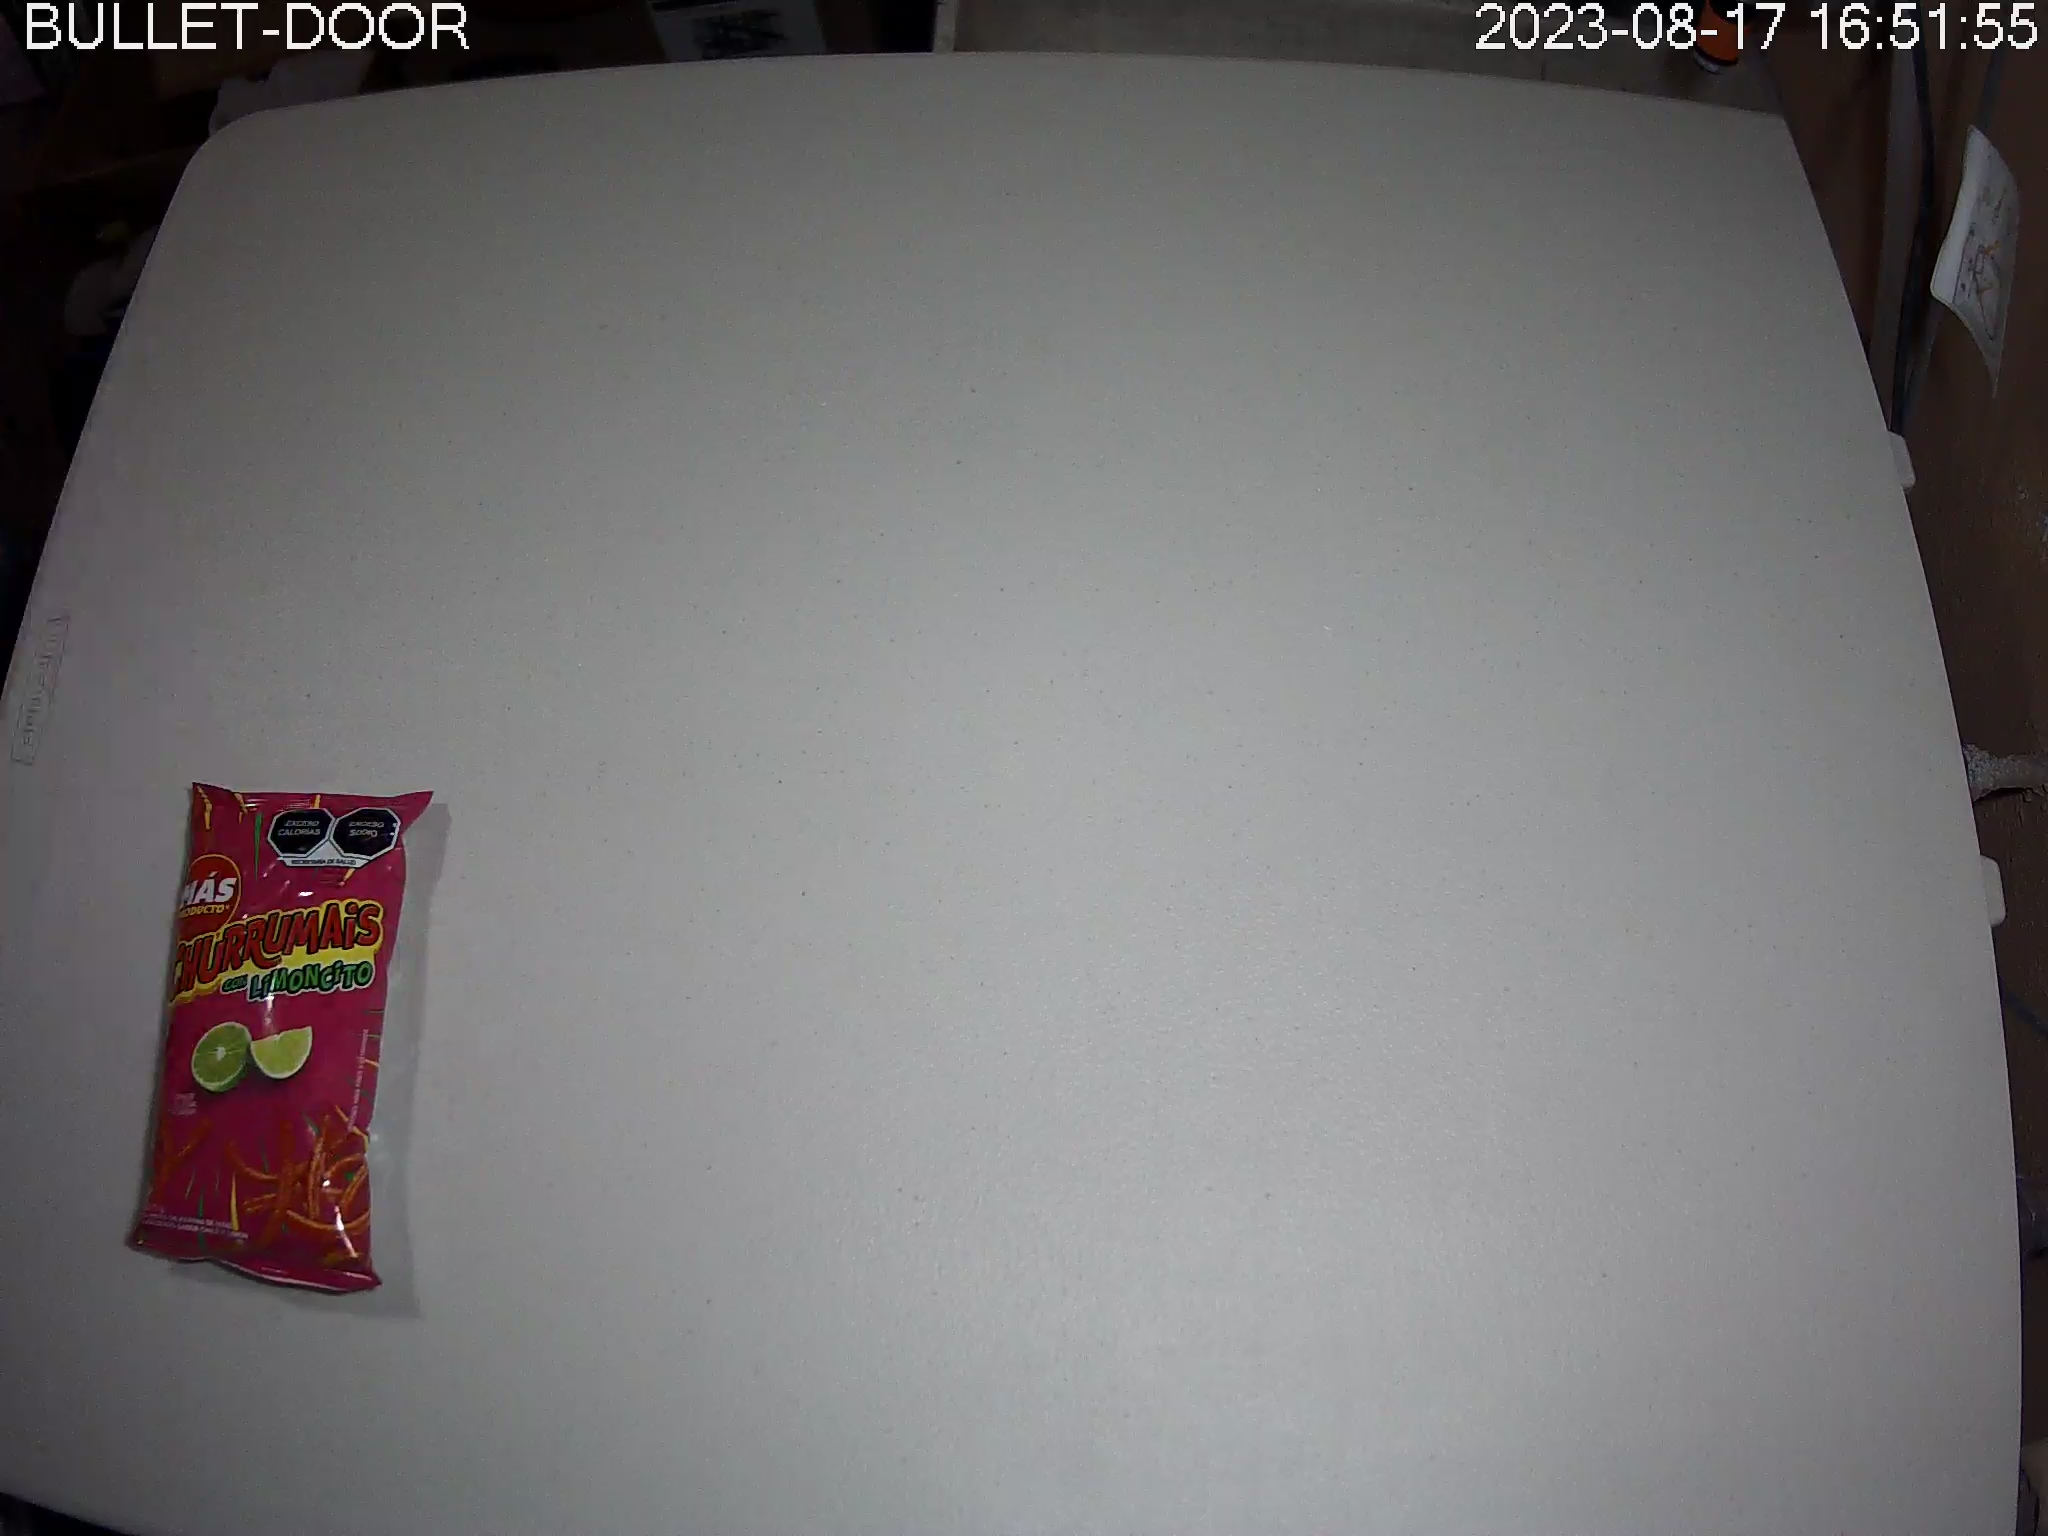Churrumais_70_F: (126, 779, 435, 1294)
